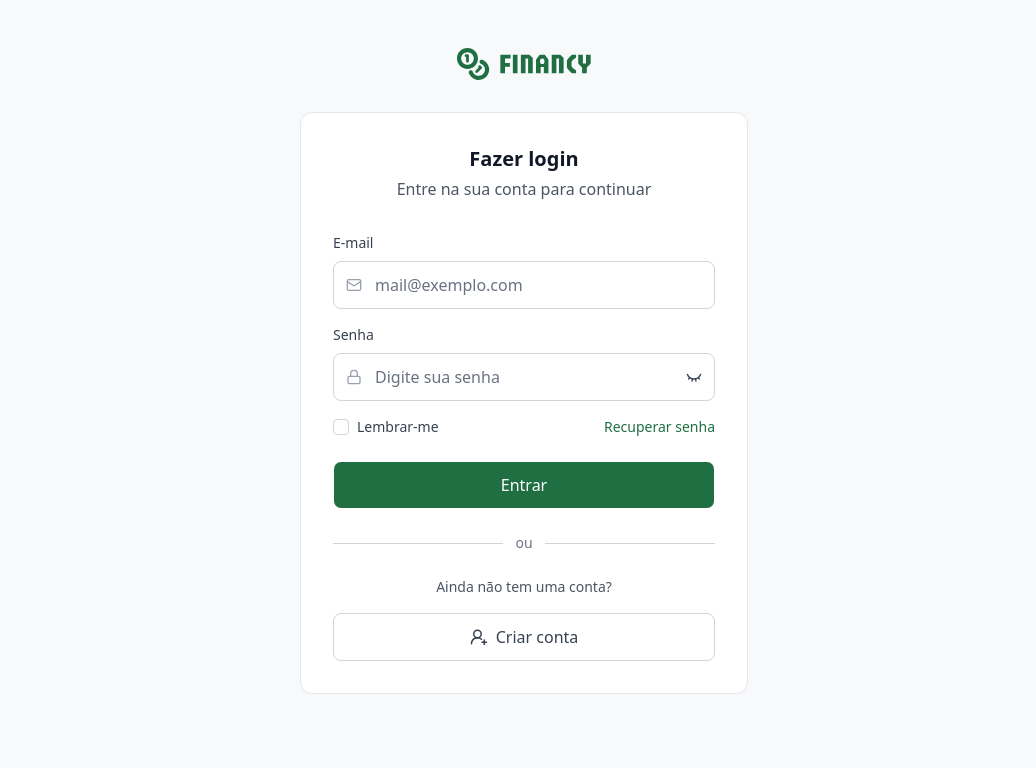
login › com "lembrar-me", o token sobrevive ao fechar o navegador
Type "ana@exemplo.com" into the field labelled "E-mail" at (524, 285), box [333,261,715,309]
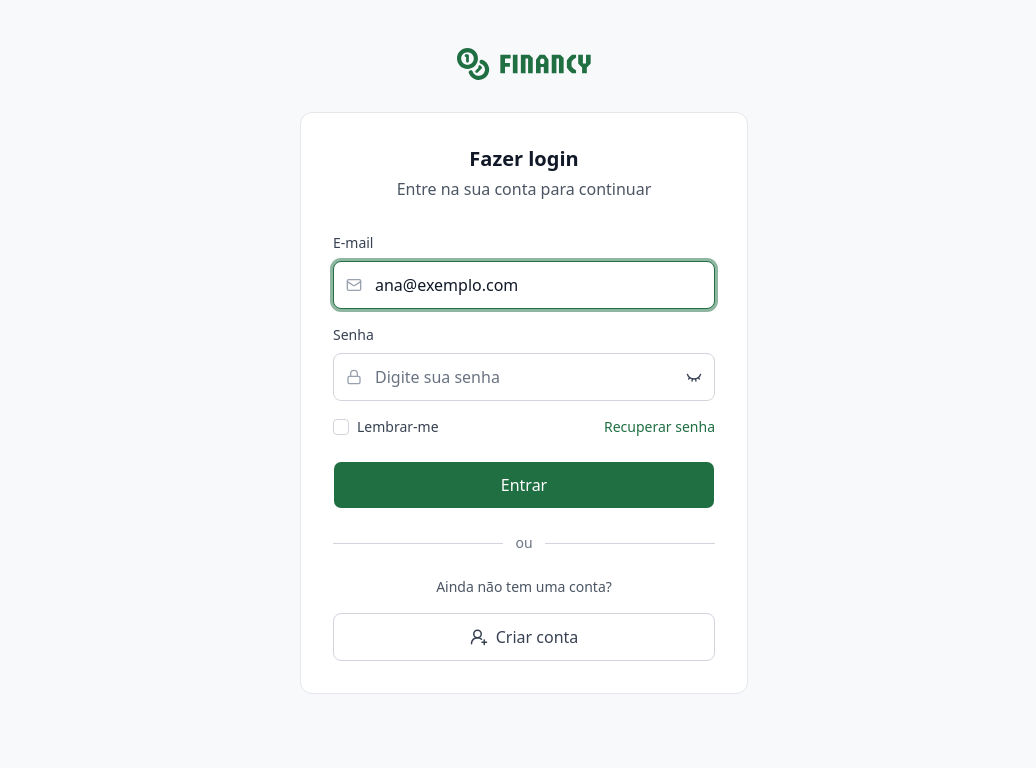
Type "senha-forte-123" into the password field labelled "Senha" at (524, 377), box [333,353,715,401]
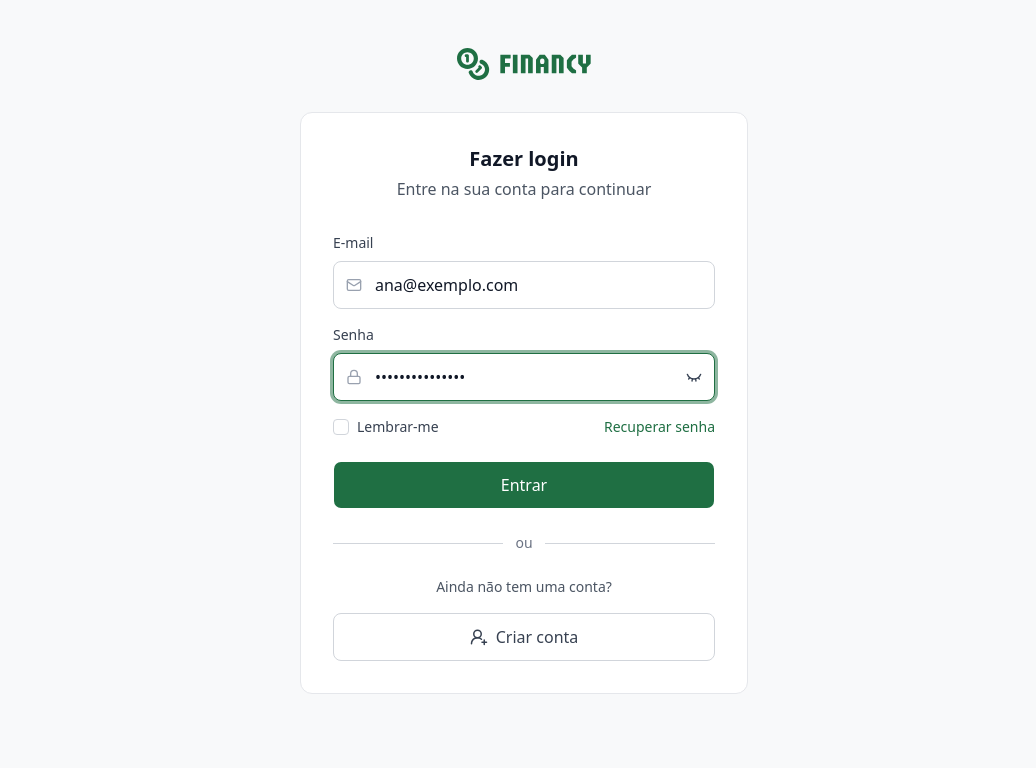
Click the checkbox named "Lembrar-me" at (341, 427), box [333,419,349,435]
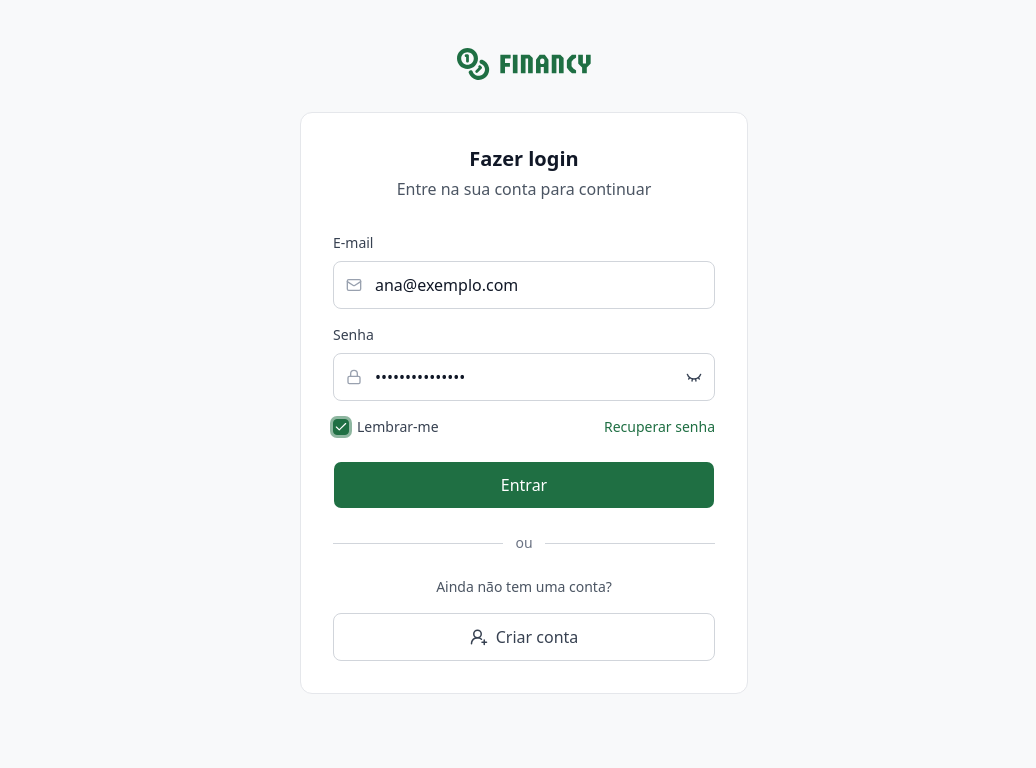
Click the button "Entrar" at (524, 485), box [333,461,715,509]
(page scrolled)
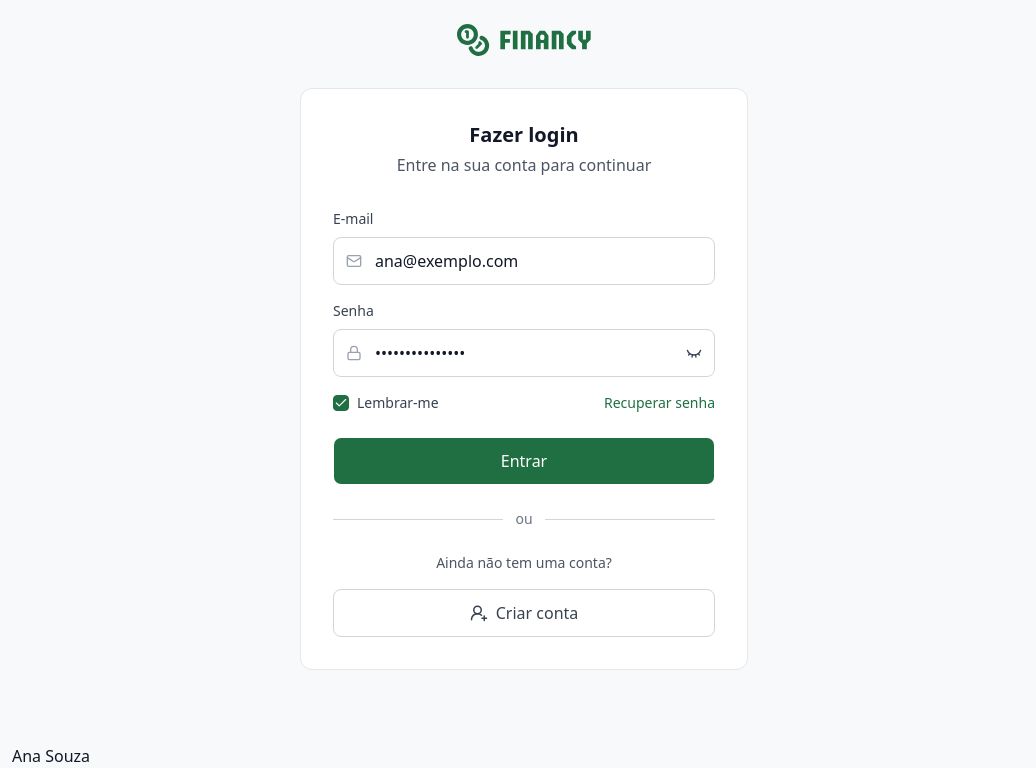
Check: the text "Ana Souza" is shown, box [12,745,90,767]
